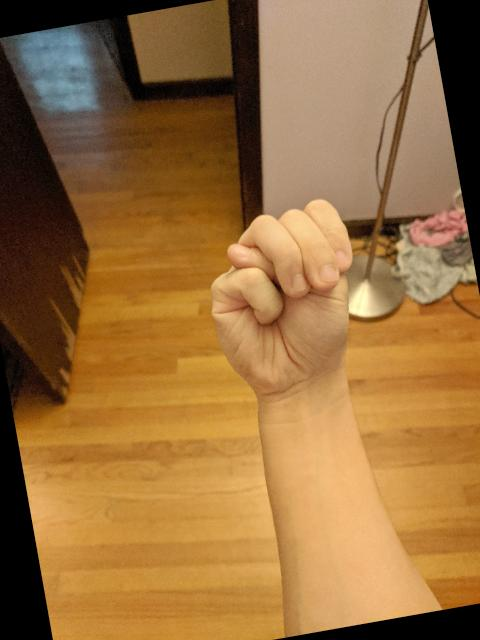M: (185, 186, 379, 407)
